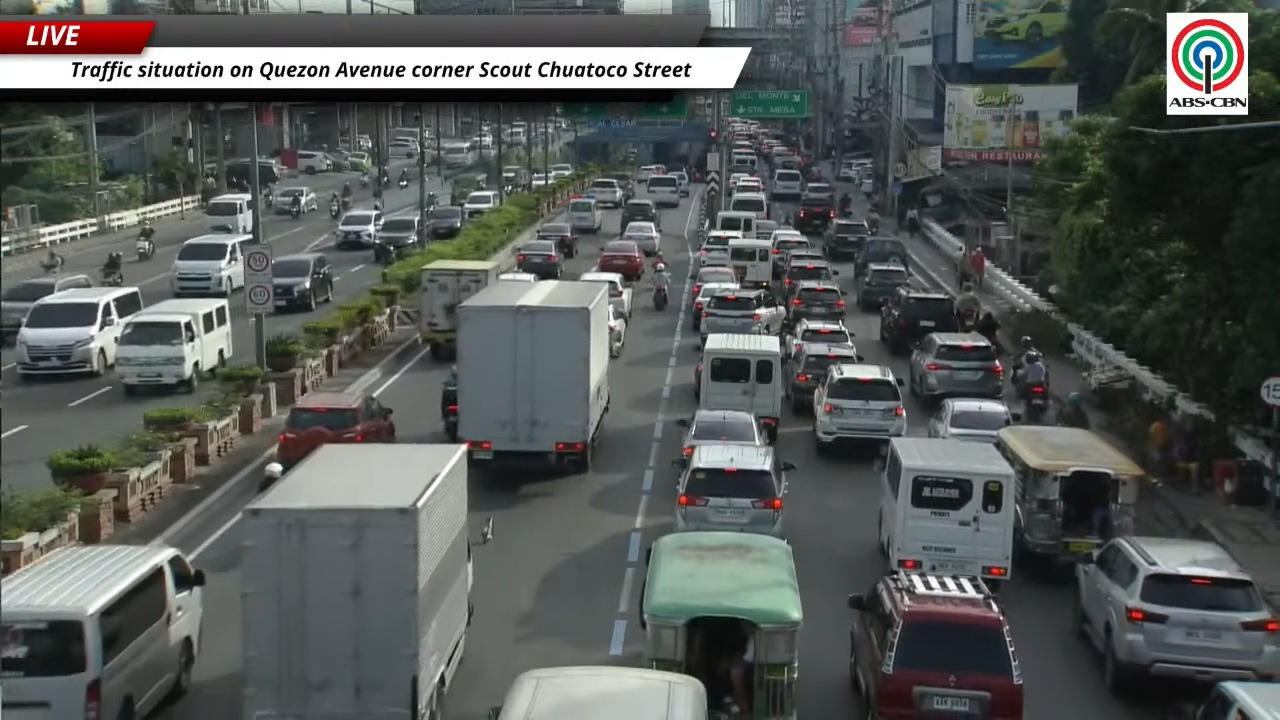car: (1074, 535, 1279, 692), (847, 570, 1023, 719), (674, 444, 794, 536), (276, 392, 395, 469), (812, 363, 906, 453), (909, 332, 1003, 402), (0, 274, 93, 338), (784, 342, 862, 412), (879, 286, 957, 354), (699, 288, 784, 347), (676, 409, 767, 456), (928, 397, 1017, 442), (982, 0, 1067, 44), (272, 252, 332, 310), (782, 252, 838, 301), (691, 277, 739, 331), (783, 319, 854, 354), (855, 263, 909, 309), (579, 271, 632, 317), (787, 280, 845, 322), (823, 218, 872, 259), (770, 228, 811, 276), (596, 240, 644, 281), (855, 237, 909, 272), (334, 210, 382, 249), (689, 266, 739, 303), (516, 240, 562, 279), (377, 214, 424, 250), (697, 230, 742, 267), (794, 194, 835, 234), (536, 222, 576, 257), (619, 199, 660, 233), (621, 221, 660, 256), (426, 205, 465, 239), (783, 245, 828, 274), (272, 186, 317, 214), (585, 177, 623, 207), (606, 304, 627, 358), (646, 175, 680, 207), (462, 190, 499, 218), (771, 169, 803, 199), (604, 172, 633, 202), (296, 151, 332, 173), (388, 138, 421, 158), (325, 149, 351, 172), (733, 177, 764, 195), (636, 165, 664, 183), (805, 183, 836, 199), (836, 159, 858, 181), (347, 151, 371, 171), (755, 219, 780, 238), (726, 172, 749, 192), (671, 171, 689, 196), (858, 169, 874, 197), (548, 163, 573, 178), (497, 273, 538, 281), (531, 173, 551, 188)
motorcycle: (1023, 384, 1048, 423), (257, 462, 283, 492), (375, 242, 402, 265), (443, 404, 458, 441), (956, 310, 977, 332), (135, 237, 154, 261), (100, 267, 123, 286), (40, 256, 64, 274), (653, 286, 668, 311), (329, 201, 341, 219), (263, 192, 274, 209), (290, 205, 301, 220), (341, 196, 351, 211), (359, 174, 369, 187), (398, 178, 408, 189)
truck: (240, 443, 491, 719), (457, 281, 609, 472), (419, 259, 500, 360)
